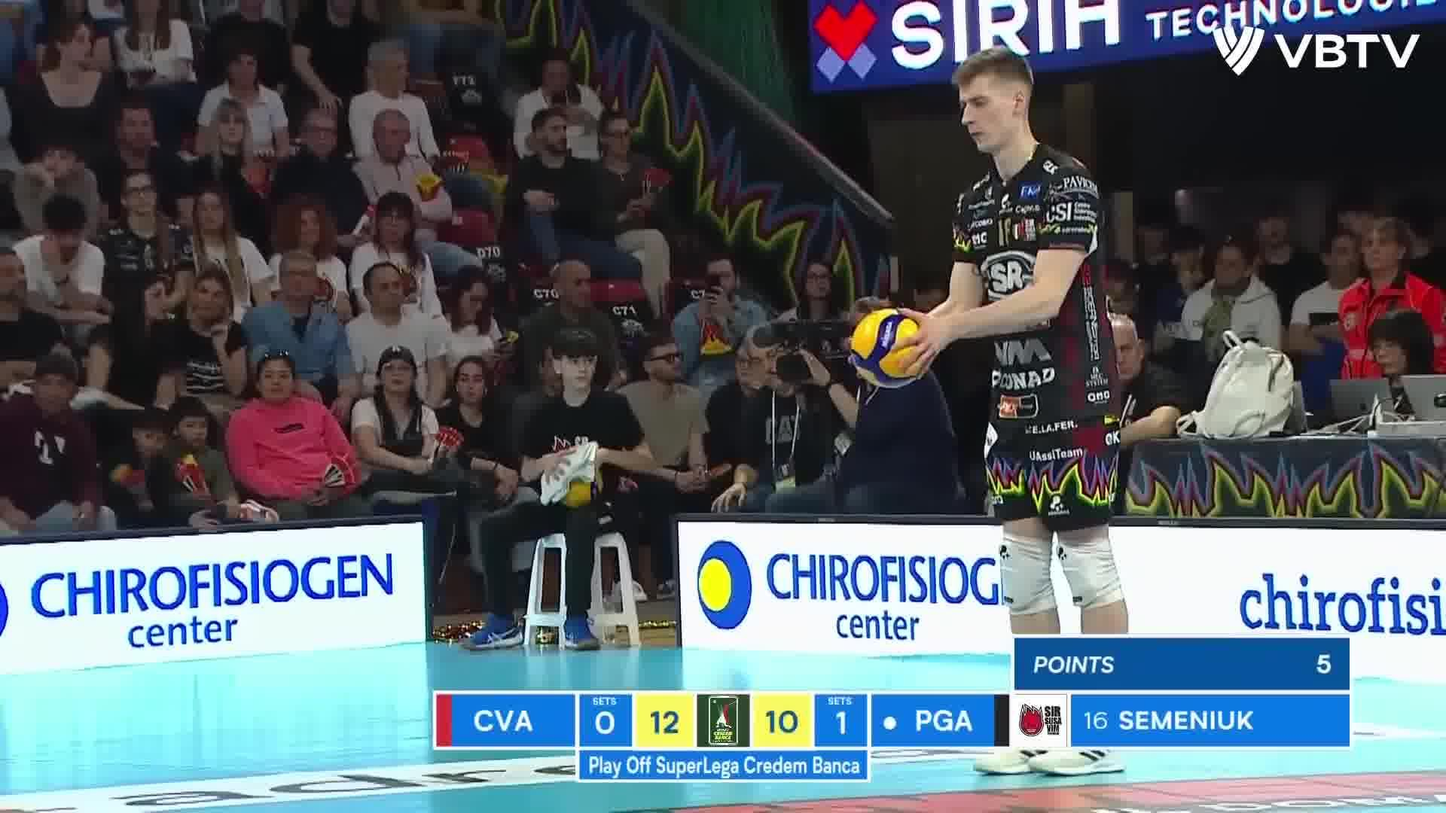balls: (844, 303, 936, 394)
